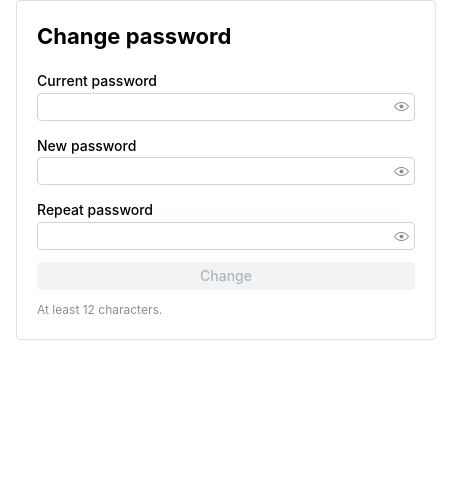
Scenario: ChangePasswordPage: 423 і 429 показують причину з каталогу (S9) › 423 — запис заблоковано: банер із подробицею, не під полем і без виходу з системи
Type "OldPassword1" into the password field labelled "Current password" at (226, 107), box [38, 94, 414, 120]
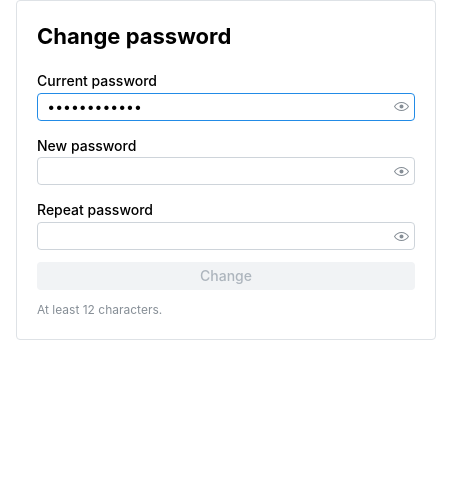
Type "NewPassword123" into the password field labelled "New password" at (226, 171), box [38, 158, 414, 184]
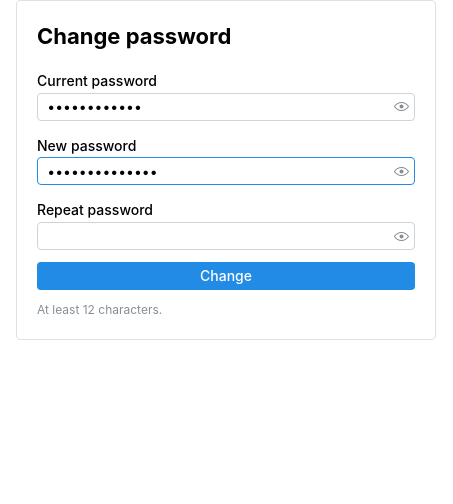
Type "NewPassword123" into the password field labelled "Repeat password" at (226, 236), box [38, 223, 414, 249]
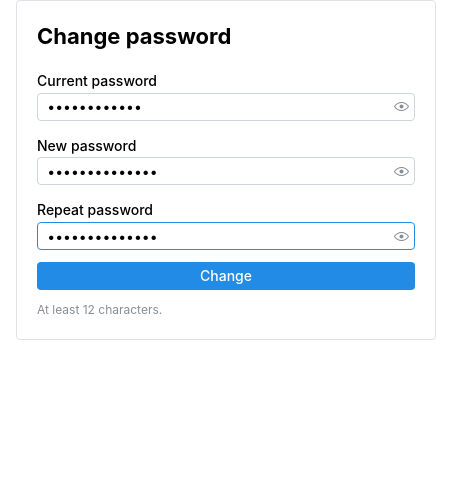
Click the button "Change" at (226, 276), box [37, 262, 415, 290]
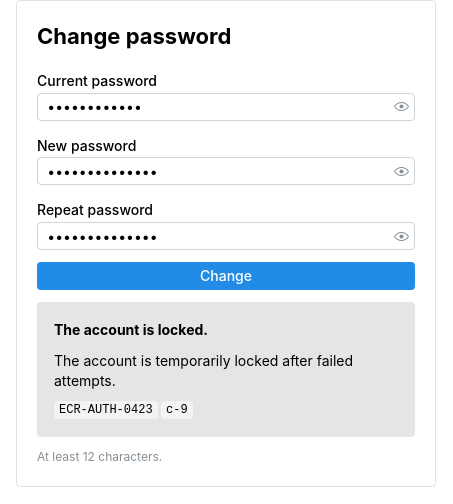
Expected: the field labelled "Current password" does not show "temporarily locked"
Expected: the message shows "The account is locked.", [54, 321, 208, 338]
Expected: the message shows "The account is temporarily locked after failed attempts.", [54, 352, 353, 389]
